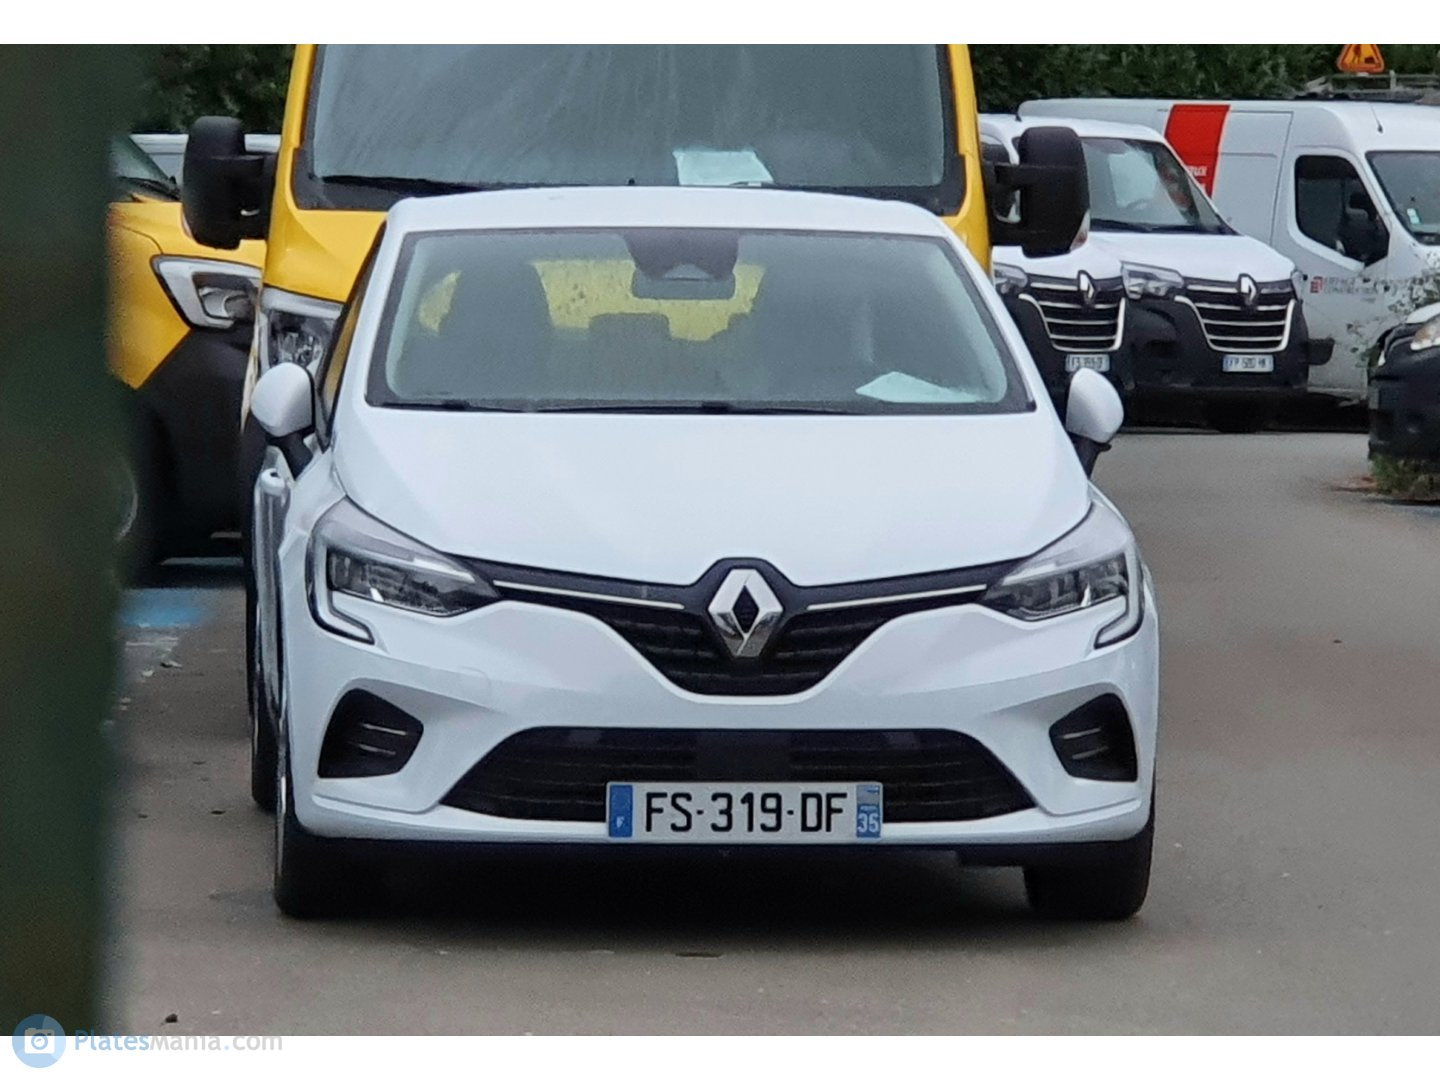licence plate: (599, 773, 887, 847)
